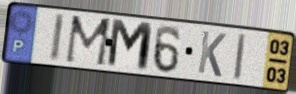6: (153, 24, 183, 75)
I: (48, 12, 67, 64), (232, 32, 248, 83)
K: (196, 29, 228, 79)
M: (104, 17, 155, 74), (63, 14, 115, 69)
